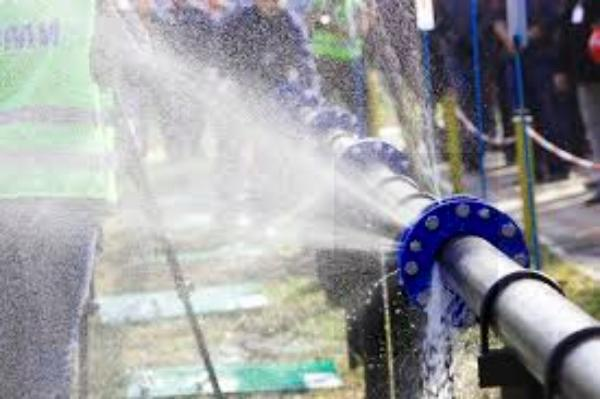water: (334, 153, 498, 355)
